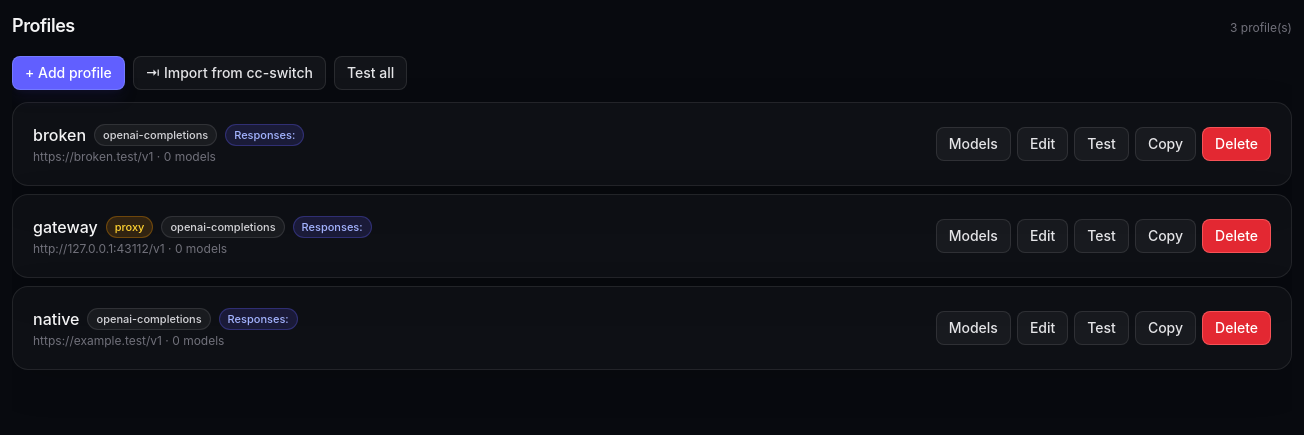
test all providers › runs one test per non-proxy profile and shows a summary
The image size is (1304, 435).
Click the button "Test all" at (371, 73), box [334, 56, 407, 90]
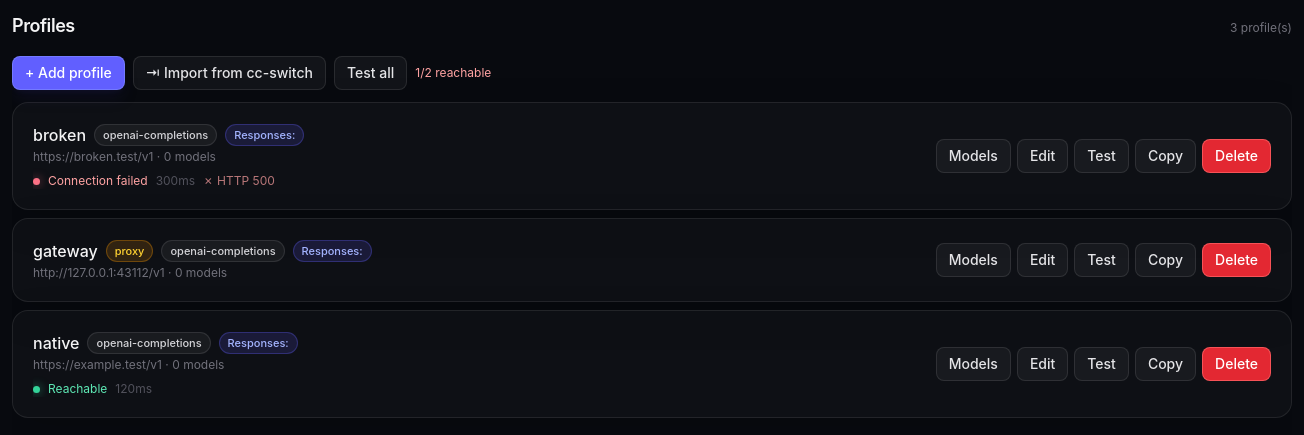
Now the text "1/2 reachable" is shown, box [415, 65, 491, 81]
Now the text "Reachable" is shown once, box [48, 381, 107, 397]
Now the text "120ms" is shown, box [115, 381, 152, 397]
